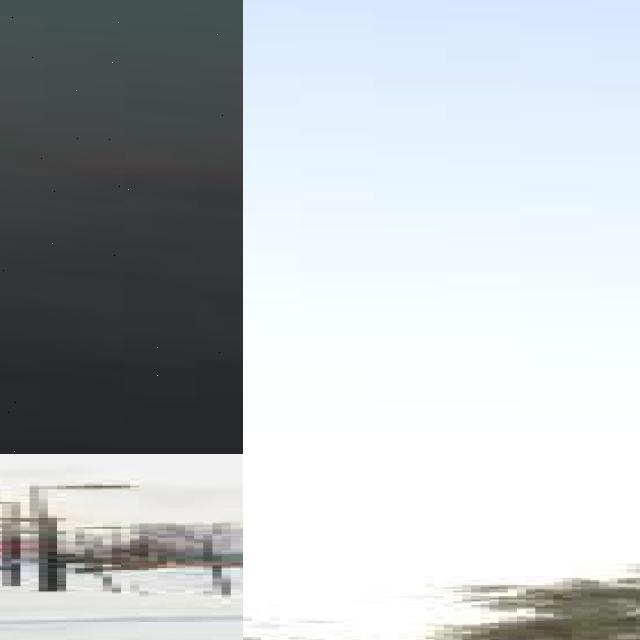street light: (0, 0, 243, 454), (29, 484, 134, 589), (0, 500, 66, 591)
